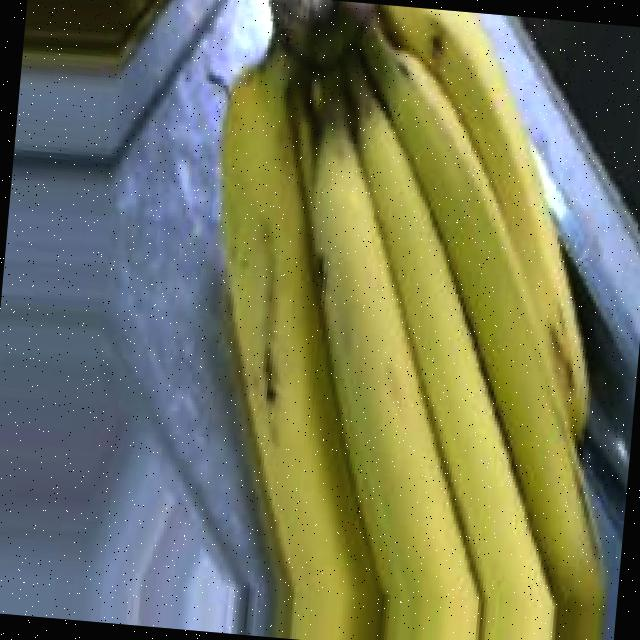banana: (115, 0, 627, 640)
